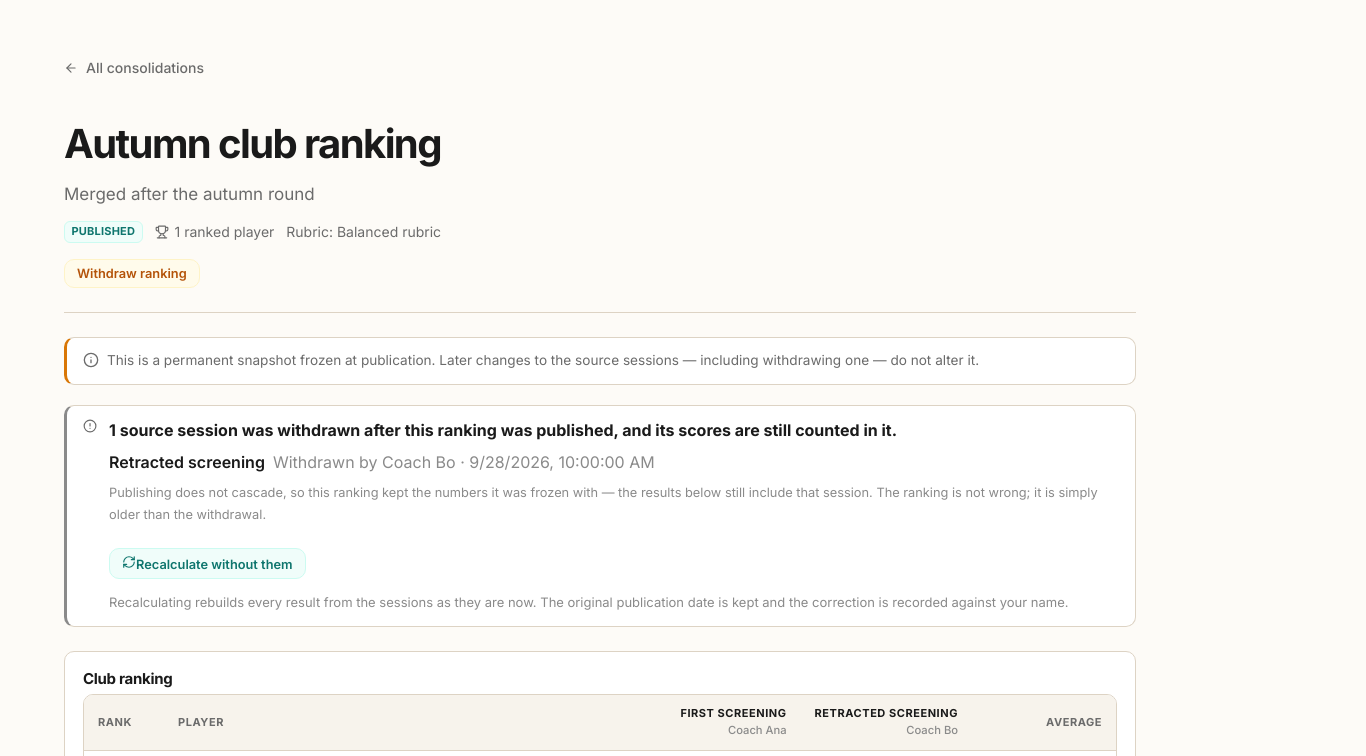
Test: RankingConsolidationDetail › recalculating a published ranking › recalculates and shows the corrected figures
What coordinates should you click on to do the following:
click the button "Recalculate without them"
I would click on:
 (207, 564)
Its box is [109,548,306,579].
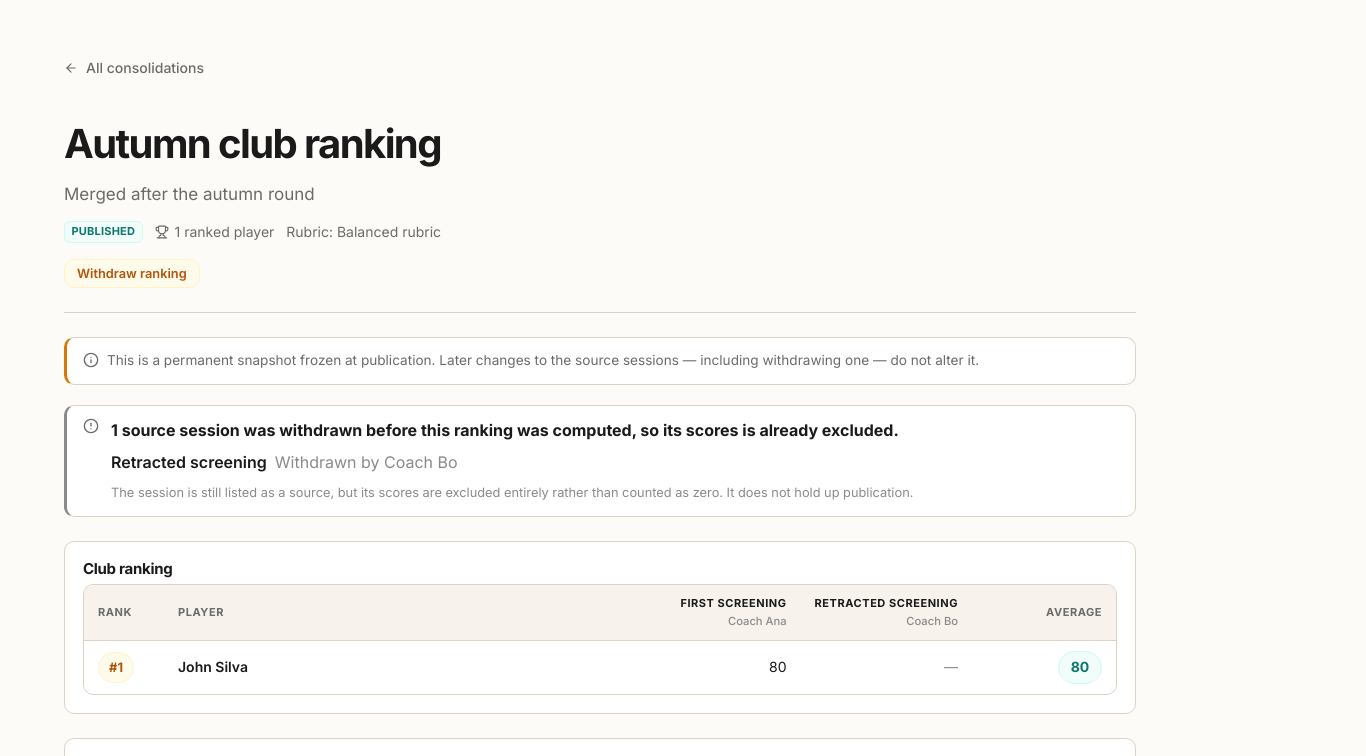
Result: the text "withdrawn before this ranking was computed" is shown at [275,420,659,440]
Result: the text "scores are still counted in it" is gone
Result: the button "Recalculate" is gone
